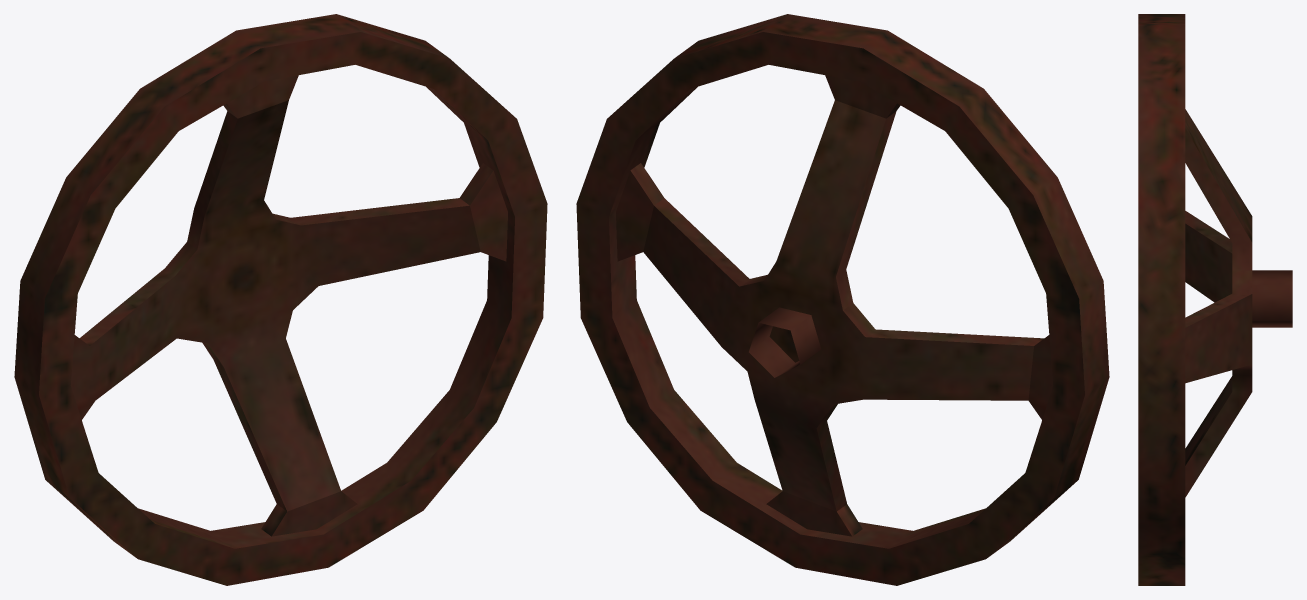
The model's file is Valve.fbx.
The picture shows the model from 3 angles, left to right: view 1: azimuth 30°, elevation 25°; view 2: azimuth 150°, elevation 25°; view 3: azimuth 270°, elevation 25°; orthographic projection. The views are drawn at different scales.
Parts seen in each view (by area): view 1: valve_1; view 2: valve_1; view 3: valve_1.
Boxes of the visible parts, x1,y1,x2,y2 form: valve_1: (14,14,547,585); valve_1: (576,14,1109,585); valve_1: (1138,14,1292,585).
Bounding box in the file's own units: 28.11 × 28.31 × 7.67.
1 material, 1 textured.
